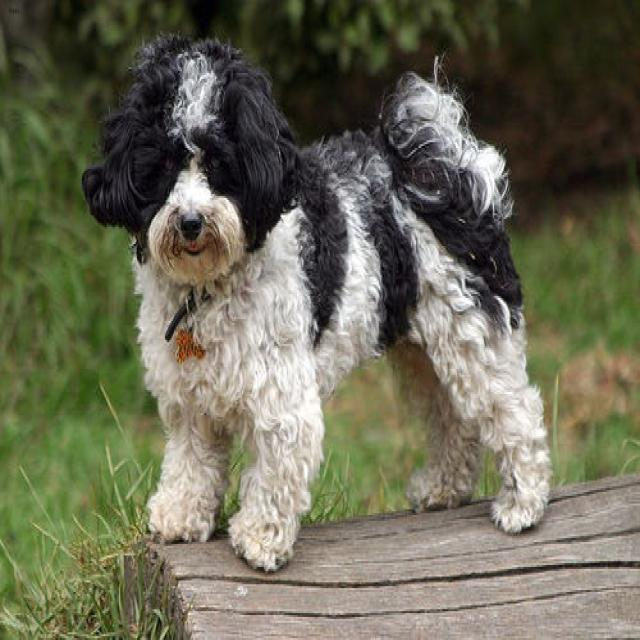dog-havanese: (74, 23, 557, 590)
